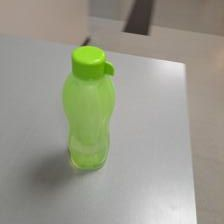bottle: (62, 43, 115, 173)
